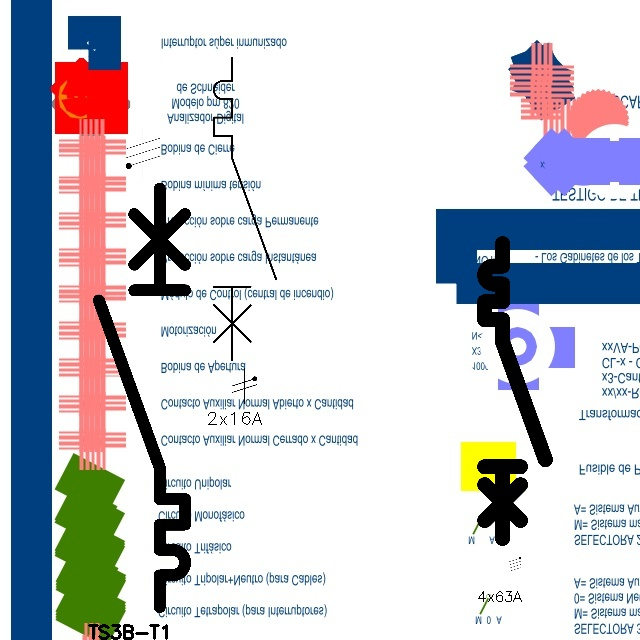interruptor_termomagnetico: (88, 177, 196, 617), (206, 50, 284, 368), (477, 236, 553, 546)
